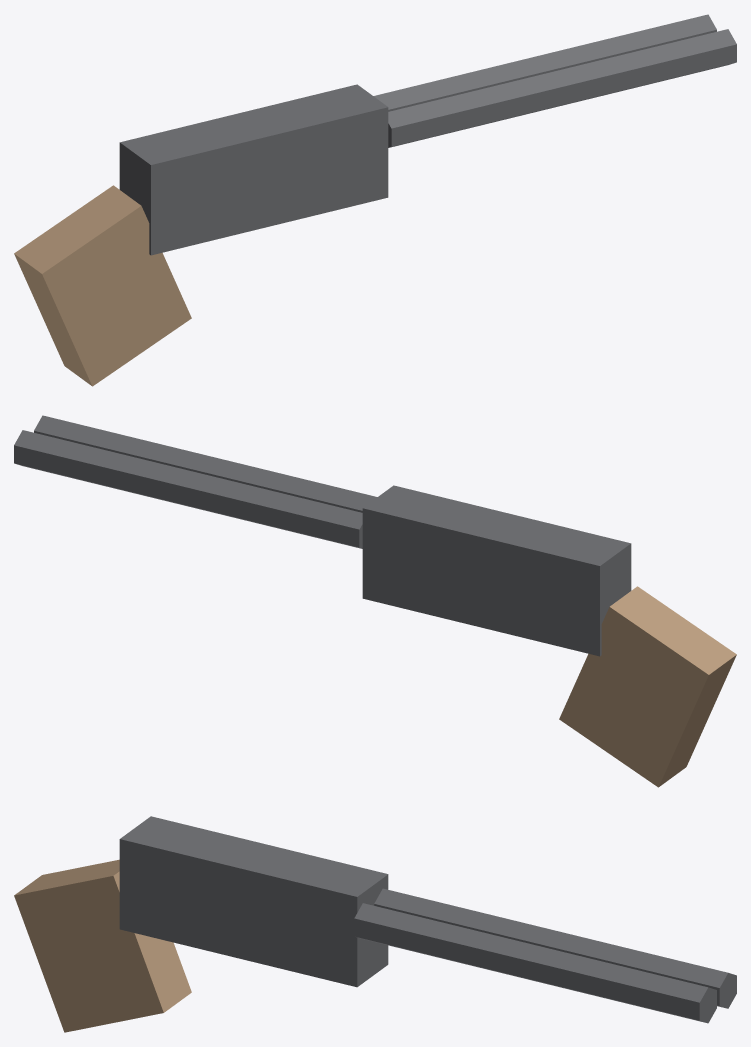
Rendered from held_weapon_sawnoff.glb.
The picture shows the model from 3 angles, top to bottom: view 1: azimuth 30°, elevation 25°; view 2: azimuth 150°, elevation 25°; view 3: azimuth 330°, elevation 25°; orthographic projection.
Parts seen in each view (by area): view 1: held_weapon_sawnoff; view 2: held_weapon_sawnoff; view 3: held_weapon_sawnoff.
Part boxes in pixels (x1,y1,x2,y2): held_weapon_sawnoff: [14, 14, 736, 386]; held_weapon_sawnoff: [14, 415, 736, 787]; held_weapon_sawnoff: [14, 816, 736, 1032].
Size of the model in its own units: 0.6394 by 0.1847 by 0.0597.
